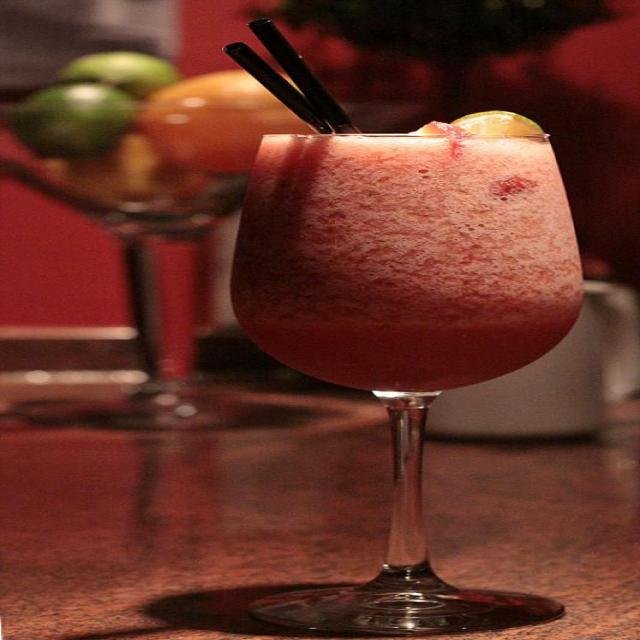Juice: (240, 119, 562, 535)
